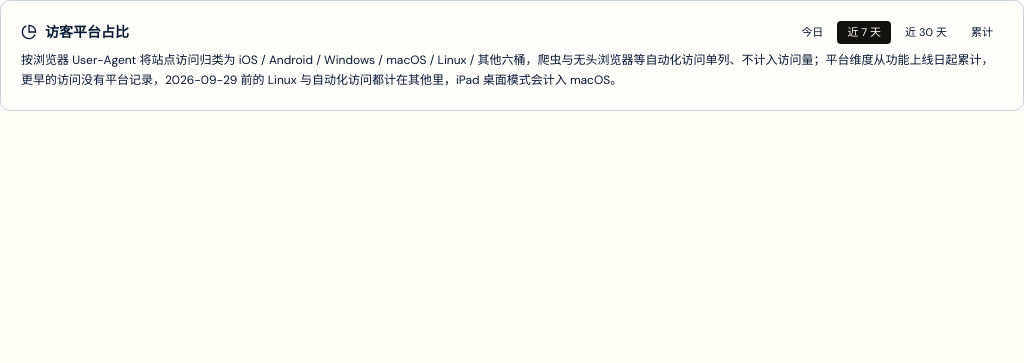
Scenario: VisitStatsPanel › ignores stale responses after a faster tab switch wins the race
Note: mount 的 7d 请求仍在途时切到 30d：两请求竞态，晚到的 7d 响应必须被丢弃
Click the button "近 30 天": x=926, y=32 [895,21,957,44]
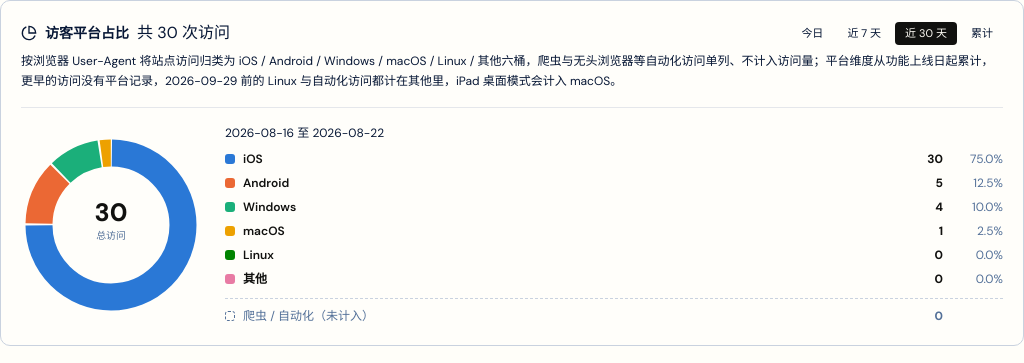
Now the text "共 30 次访问" is shown, box [137,21,230,45]
